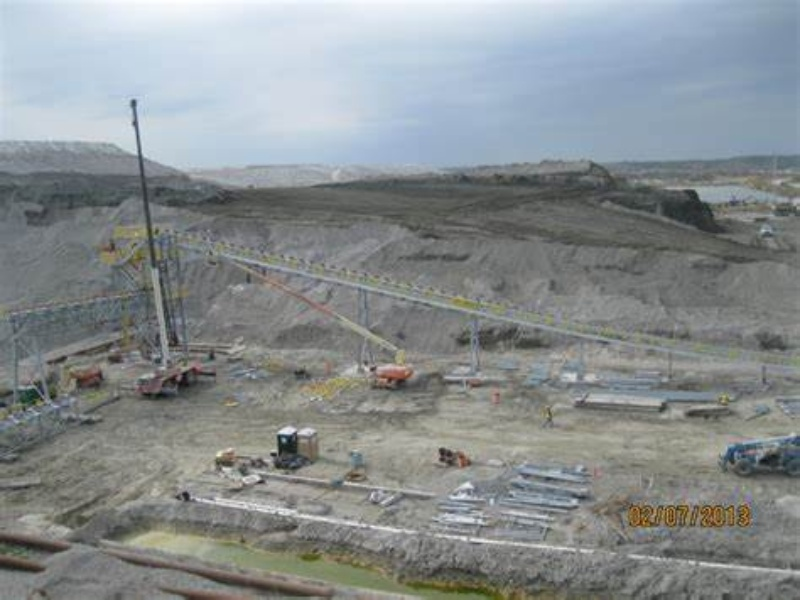crane: (204, 250, 414, 392), (126, 93, 198, 404)
vehicle: (716, 433, 800, 481)
